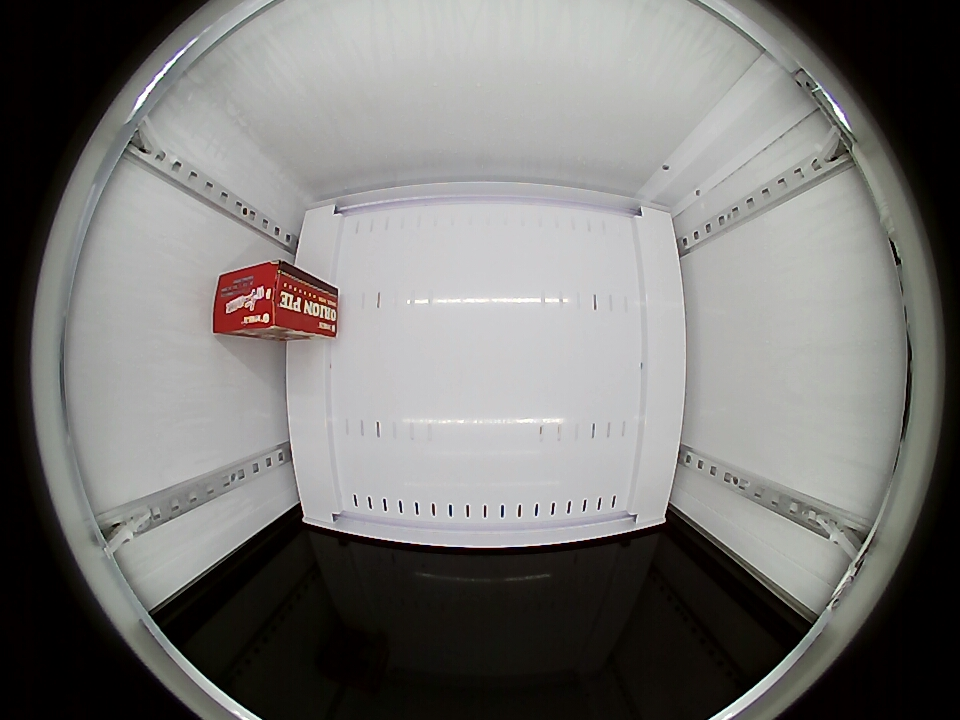haoliyou: (212, 261, 300, 339)
